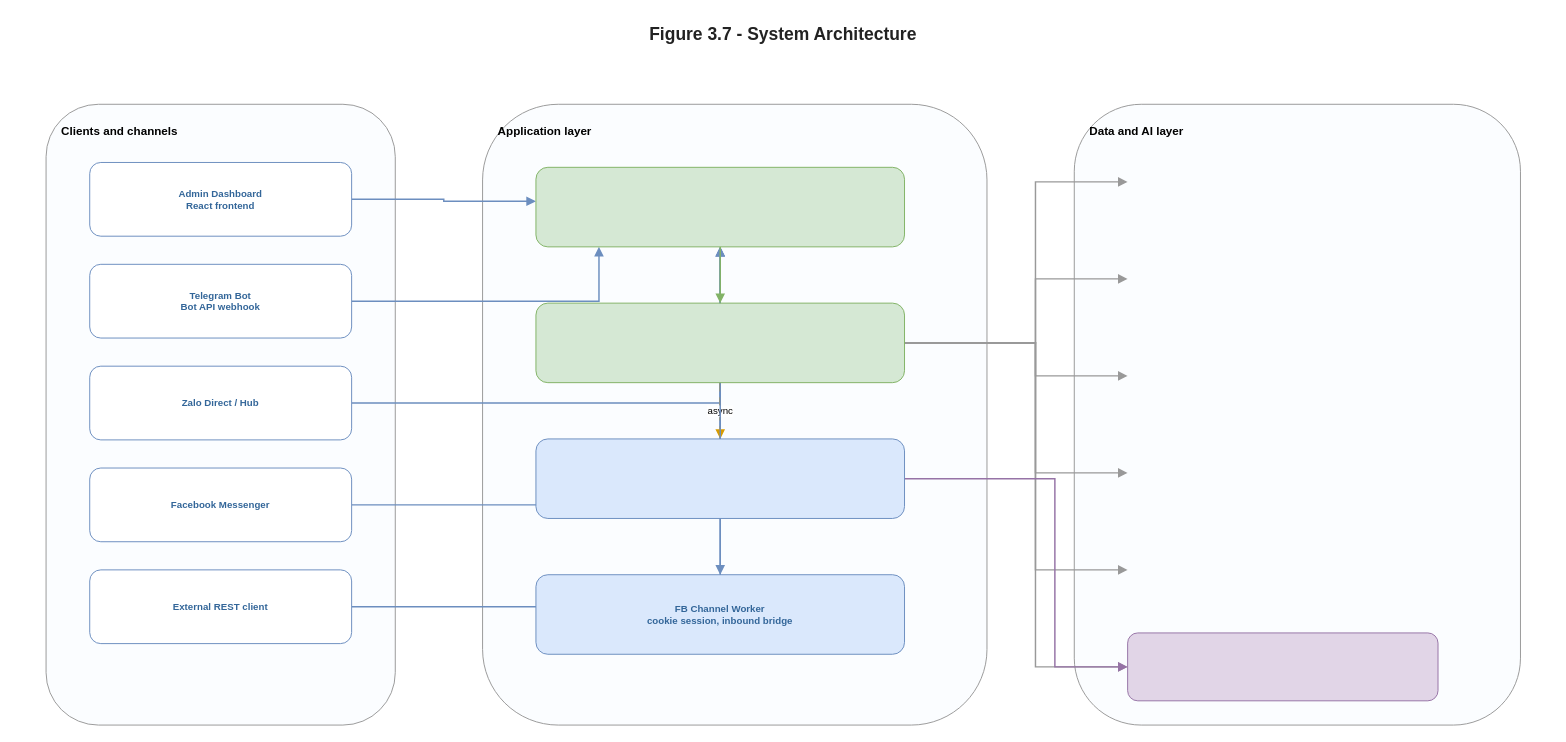
Image size: 1566x742. Some labels were removed from this diagram. The shapes that lost their labels are listed below. From the top down, each one's centre as x and y in pixels, then its label:
[720,206]: Go Gateway rate limit, cache, SSE proxy
[720,342]: FastAPI Backend bots, chat, RAG, channels
[720,478]: Celery Worker indexing, KG, channel jobs
[1282,666]: OpenRouter LLM + embeddings
